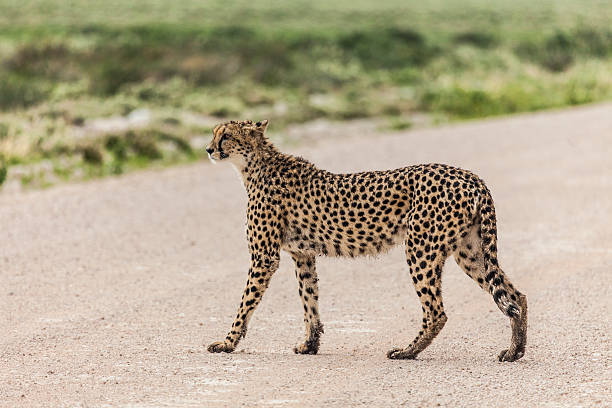cheetah: (203, 113, 273, 169)
